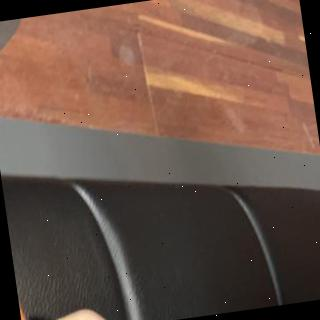fire: (16, 288, 28, 320)
